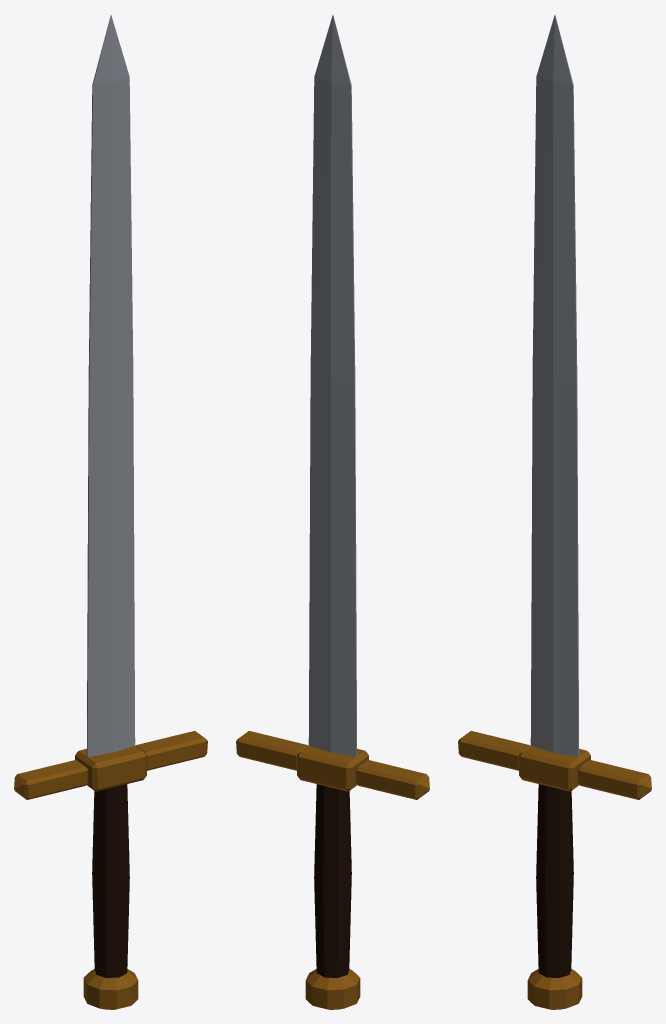
Rendered from Sword.obj.
3 renders of one model, left to right at view 1: azimuth 30°, elevation 25°; view 2: azimuth 150°, elevation 25°; view 3: azimuth 330°, elevation 25°, orthographic.
Visible parts, largest first — view 1: Steel, Brass, Leather; view 2: Steel, Brass, Leather; view 3: Steel, Brass, Leather.
Boxes of the visible parts, x1,y1,x2,y2 form: Steel: [86, 15, 135, 756]; Brass: [14, 731, 207, 1009]; Leather: [92, 784, 129, 977]; Steel: [308, 15, 357, 756]; Brass: [236, 731, 429, 1009]; Leather: [314, 784, 351, 977]; Steel: [530, 15, 579, 756]; Brass: [458, 731, 651, 1009]; Leather: [536, 784, 573, 977].
Size of the model in its own units: 0.212 by 1.04 by 0.0495.
